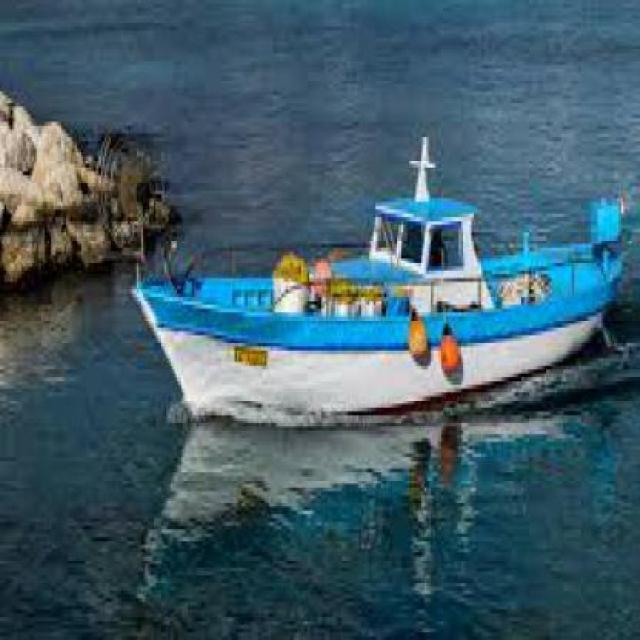fish-b: (118, 127, 636, 447)
